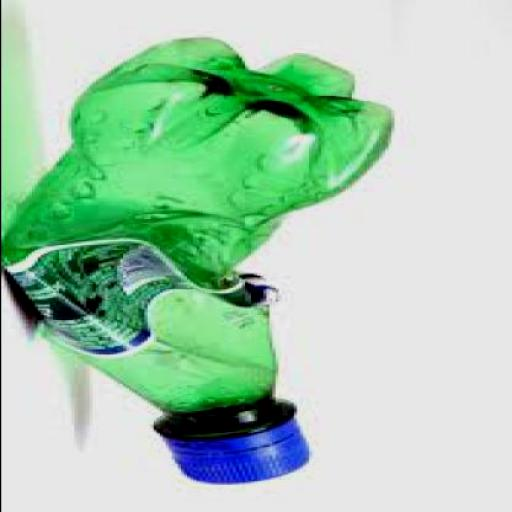plastic: (2, 36, 396, 484), (2, 236, 280, 354), (152, 408, 314, 482)
